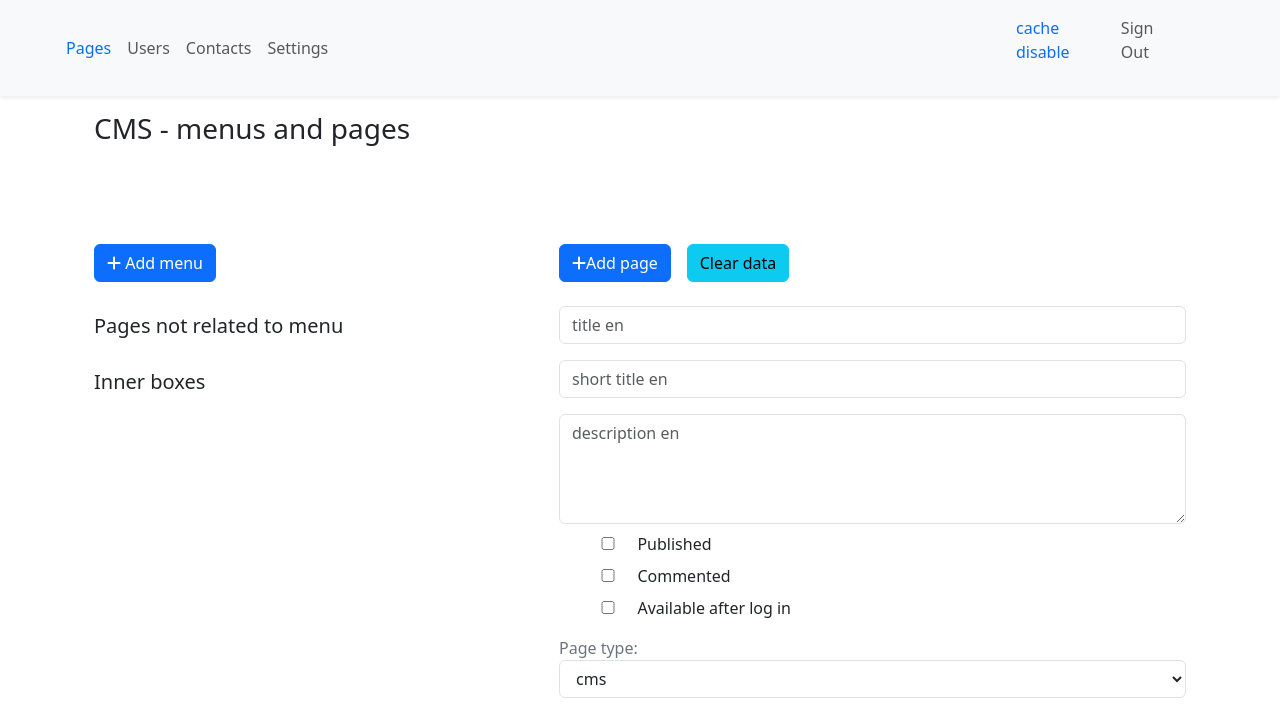
Test: change cache in nav bar › in nav bar cache enable by click input toggle cache
What coordinates should you click on to do the following:
click the list item "cache disable"
I would click on:
 (1043, 40)
Its box is 1016,17 -> 1070,63.
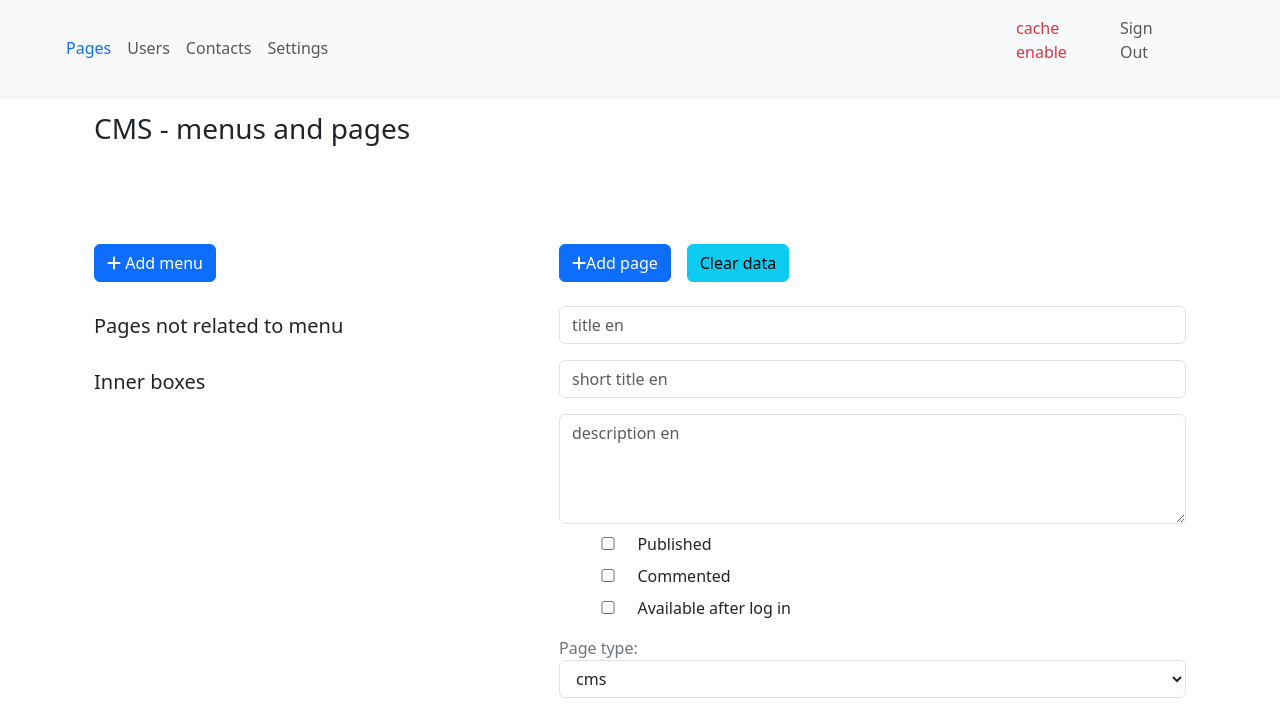
Check: the text "cache enable" is shown, box 1016,17 -> 1067,63
